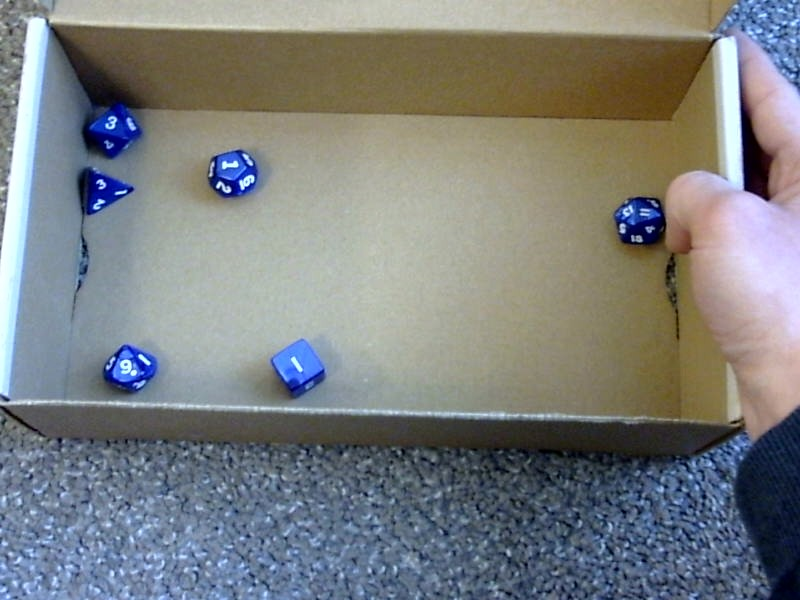d10 9: (95, 339, 161, 394)
d12 1: (200, 141, 263, 204)
d20 11: (611, 187, 667, 250)
d4 3: (75, 162, 135, 218)
d6 1: (264, 331, 328, 402)
d8 3: (79, 98, 145, 159)
